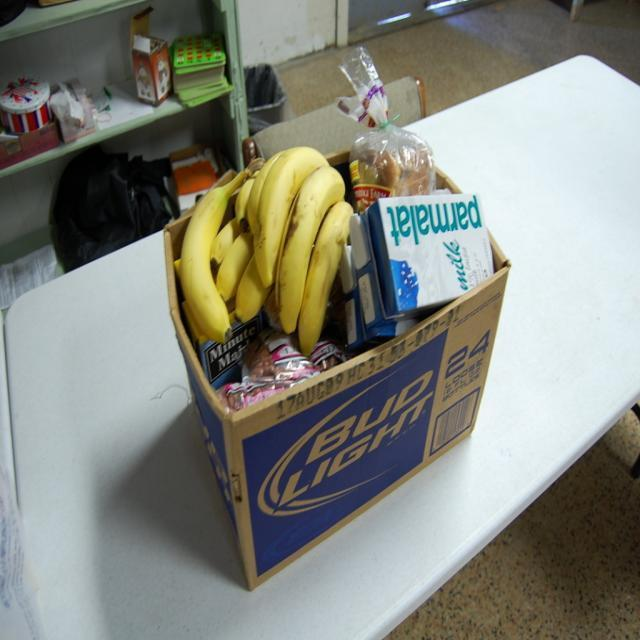Banana: (175, 148, 352, 356), (177, 171, 247, 345)
